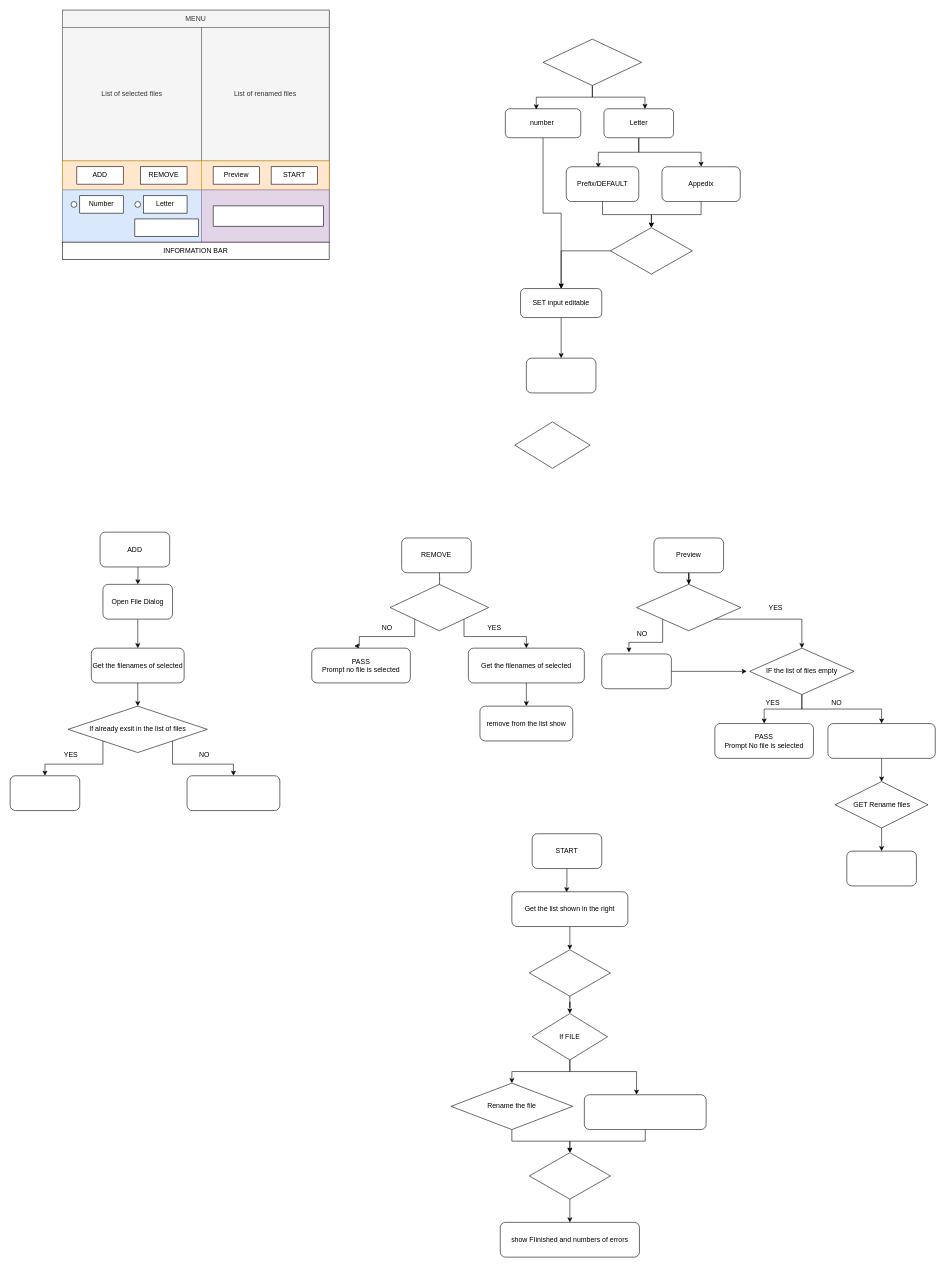
The diagram is 945 pixels wide and 1267 high, and some of its shapes have lost their labels. Each missing label, with the box of its shape:
Clear the files list: (601, 653, 671, 689)
END for loop: (529, 1152, 610, 1199)
FOR the files: (529, 949, 610, 996)
Get the Input: (526, 358, 596, 393)
Get the list of files: (827, 723, 935, 758)
IF file is selected: (389, 584, 489, 631)
IF renamed files list empty: (636, 584, 741, 631)
IF select=: (542, 39, 642, 86)
Input the letters: (213, 205, 323, 226)
pass: (10, 775, 80, 811)
Prefix/Appendix: (134, 218, 199, 236)
Record the error file continue to next loop: (584, 1094, 706, 1130)
Select One: (610, 227, 692, 274)
Show in the list of files: (186, 775, 280, 811)
show in the right: (846, 851, 916, 886)
Validate: (514, 421, 590, 468)
